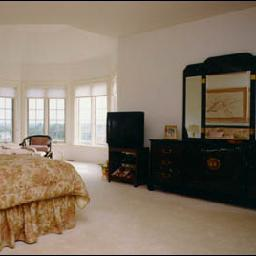Cama: (5, 154, 79, 241)
Ventana: (73, 86, 106, 145), (29, 92, 66, 144)
